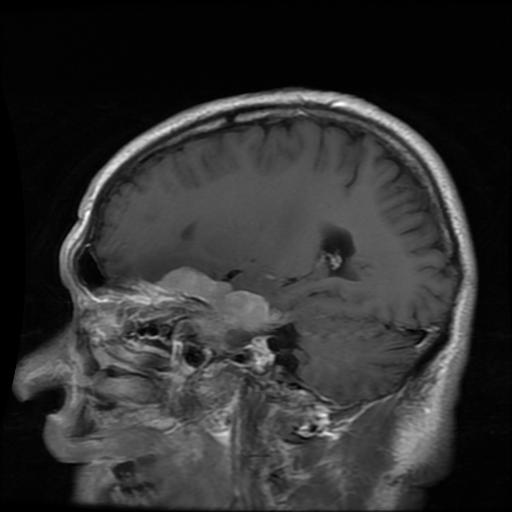Menigiomia_tumour: (156, 265, 284, 345)
